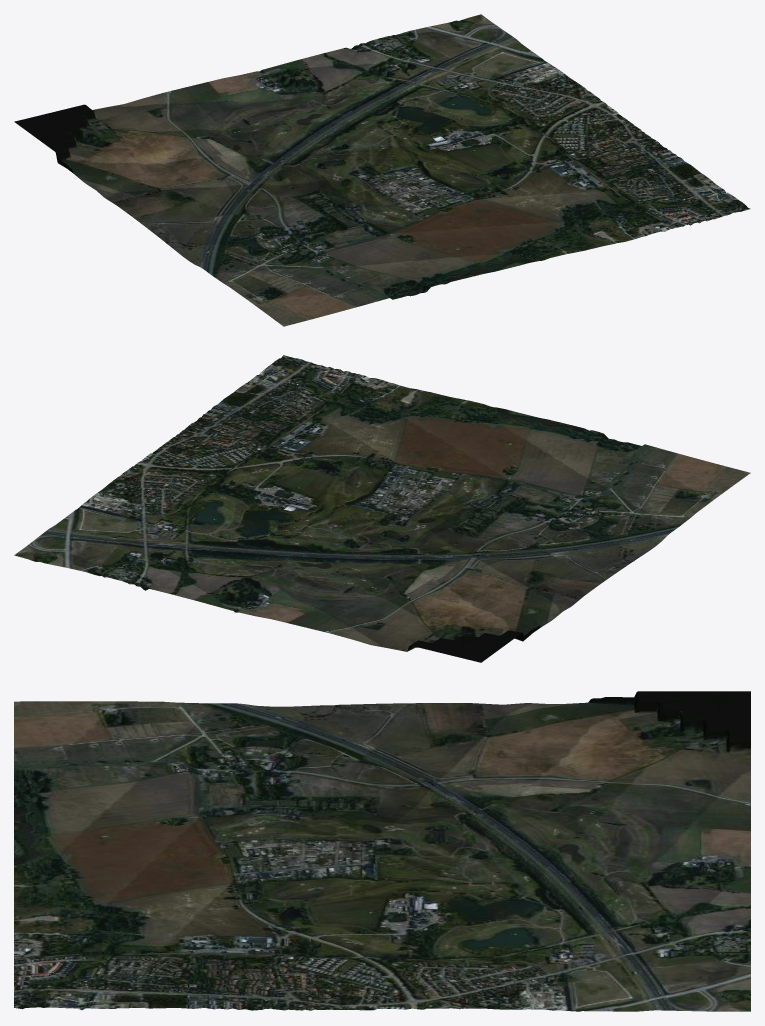
File: map_10_249_428.dae
The picture shows the model from 3 angles, top to bottom: view 1: azimuth 30°, elevation 25°; view 2: azimuth 150°, elevation 25°; view 3: azimuth 270°, elevation 25°; orthographic projection. The views are drawn at different scales.
Parts seen in each view (by area): view 1: Ter0; view 2: Ter0; view 3: Ter0.
Part boxes in pixels (box(x1,y1,x2,y2)): Ter0: box(14, 14, 750, 326); Ter0: box(14, 355, 750, 662); Ter0: box(14, 691, 750, 1011).
Size of the model in its own units: 2044 by 2044 by 55.32.
2 materials, 2 textured.
